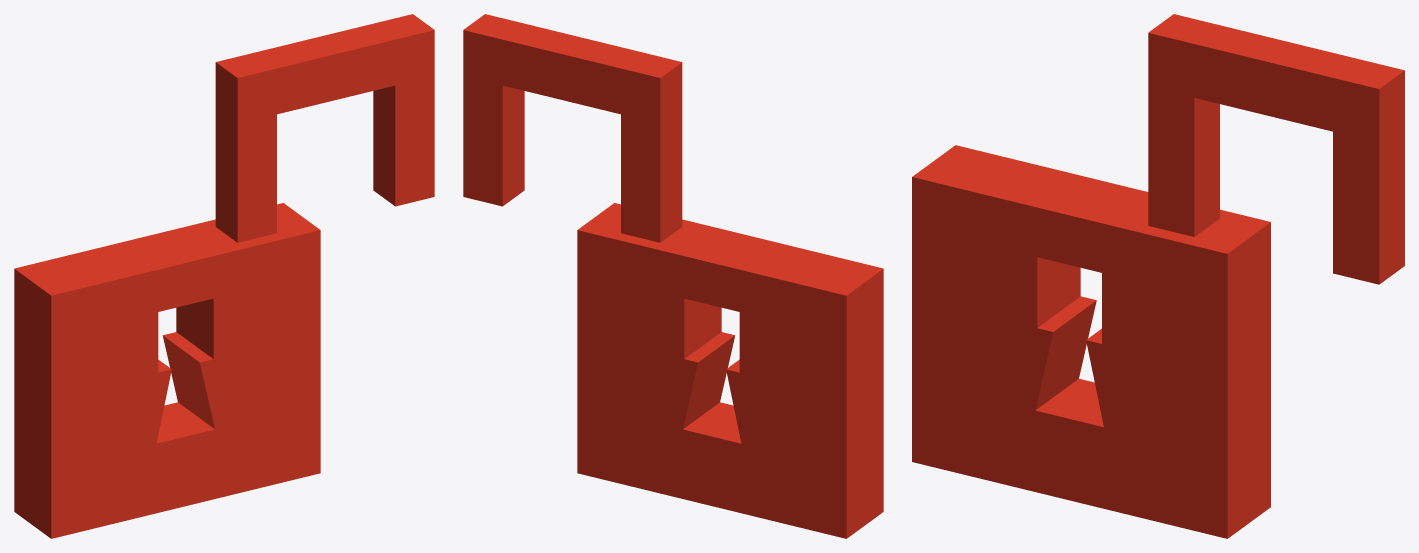
The model's file is Icon_Lock_03.fbx.
3 views of the same model, side by side, from view 1: azimuth 30°, elevation 25°; view 2: azimuth 150°, elevation 25°; view 3: azimuth 330°, elevation 25° (orthographic). The views are drawn at different scales.
Parts seen in each view (by area): view 1: Icon_Lock_03; view 2: Icon_Lock_03; view 3: Icon_Lock_03.
Boxes of the visible parts, x1,y1,x2,y2 form: Icon_Lock_03: (14, 14, 434, 538); Icon_Lock_03: (463, 14, 883, 538); Icon_Lock_03: (912, 14, 1404, 538).
Bounding box in the file's own units: 73.27 × 73.05 × 12.06.
